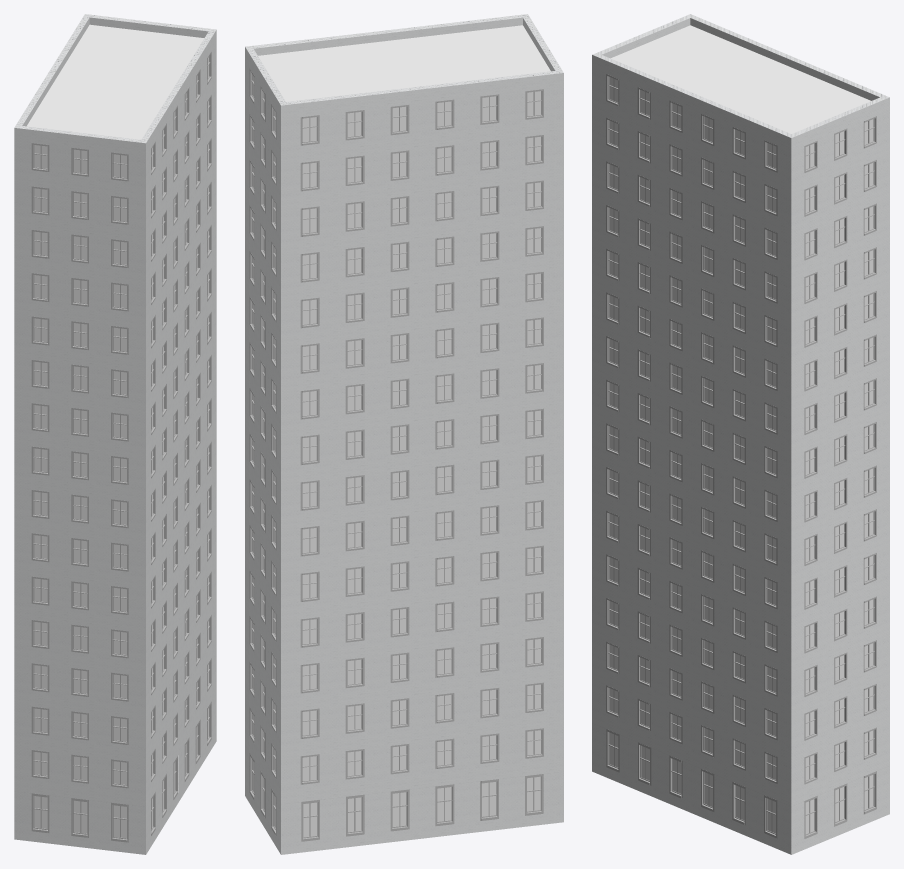
Rendered from clohbr7pf02z94p02b73ohok8_0.glb.
3 views of the same model, side by side, from view 1: azimuth 30°, elevation 25°; view 2: azimuth 150°, elevation 25°; view 3: azimuth 270°, elevation 25° (orthographic). The views are drawn at different scales.
Parts seen in each view (by area): view 1: mesh_Brick, mesh_Rim, mesh_Glass, mesh_CityEnginePBRShader; view 2: mesh_Brick, mesh_Rim, mesh_Glass, mesh_CityEnginePBRShader; view 3: mesh_Brick, mesh_Rim, mesh_Glass, mesh_CityEnginePBRShader.
Boxes of the visible parts, left/top/right/bottom form: mesh_Brick: left=14, top=14, right=216, bottom=854; mesh_Rim: left=31, top=51, right=211, bottom=842; mesh_Glass: left=34, top=57, right=208, bottom=838; mesh_CityEnginePBRShader: left=27, top=24, right=204, bottom=139; mesh_Brick: left=245, top=14, right=563, bottom=854; mesh_Rim: left=249, top=68, right=543, bottom=841; mesh_Glass: left=252, top=75, right=540, bottom=837; mesh_CityEnginePBRShader: left=258, top=25, right=550, bottom=101; mesh_Brick: left=592, top=14, right=889, bottom=854; mesh_Rim: left=606, top=74, right=876, bottom=838; mesh_Glass: left=609, top=77, right=873, bottom=833; mesh_CityEnginePBRShader: left=611, top=25, right=870, bottom=133.
Bounding box in the file's own units: 21.96 × 59.12 × 22.25.
Materials: 4 (1 with a texture image).
